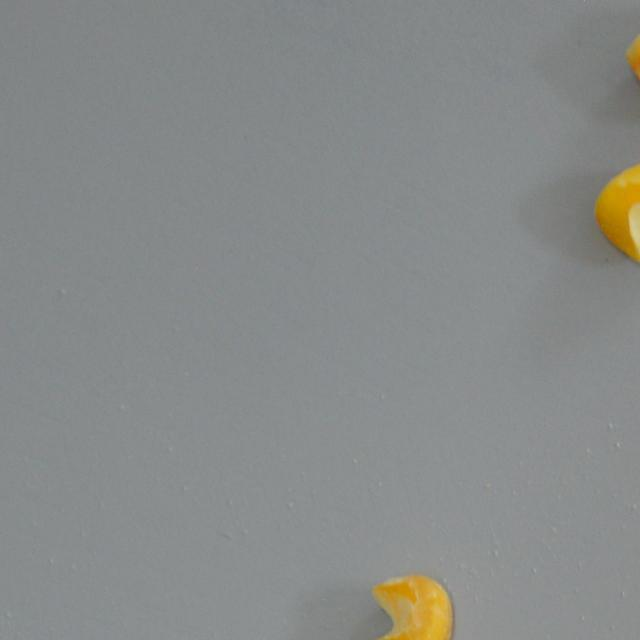no_canjicado: (594, 160, 640, 264)
pelicula: (360, 574, 452, 640), (623, 1, 640, 119)
